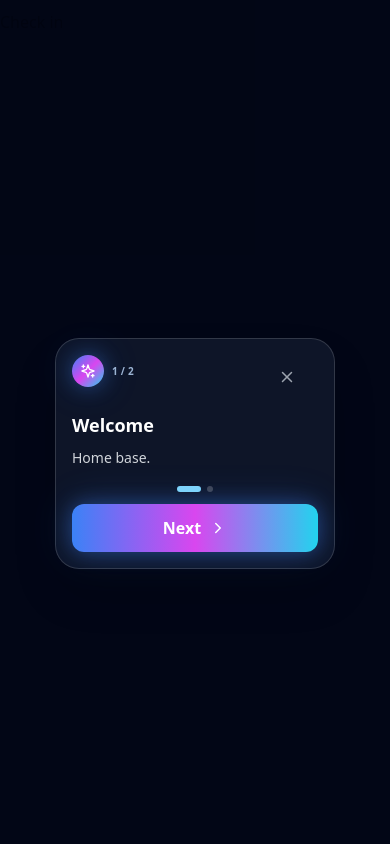
Scenario: AppTour › spotlights check-in then saves when you skip
This screenshot has width=390, height=844.
Later steps or results of the test are not shown.
Check: the heading "Welcome" is shown, box [72,413,154,437]
Click the button "Next".
click(195, 528)  # box [72,504,318,552]
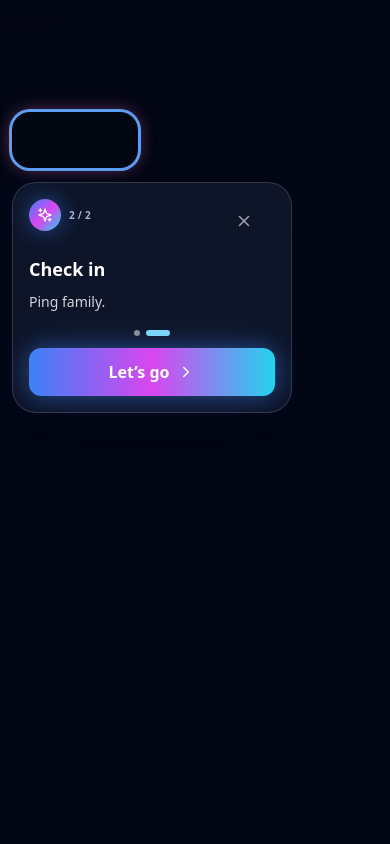
Check: the heading "Check in" is shown, box [29,257,105,281]
Check: the element with test id "app-tour-spotlight" is shown, box [12,112,138,168]
